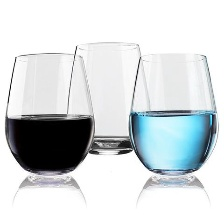glass: (127, 46, 224, 189), (57, 33, 166, 158), (0, 47, 97, 180)
